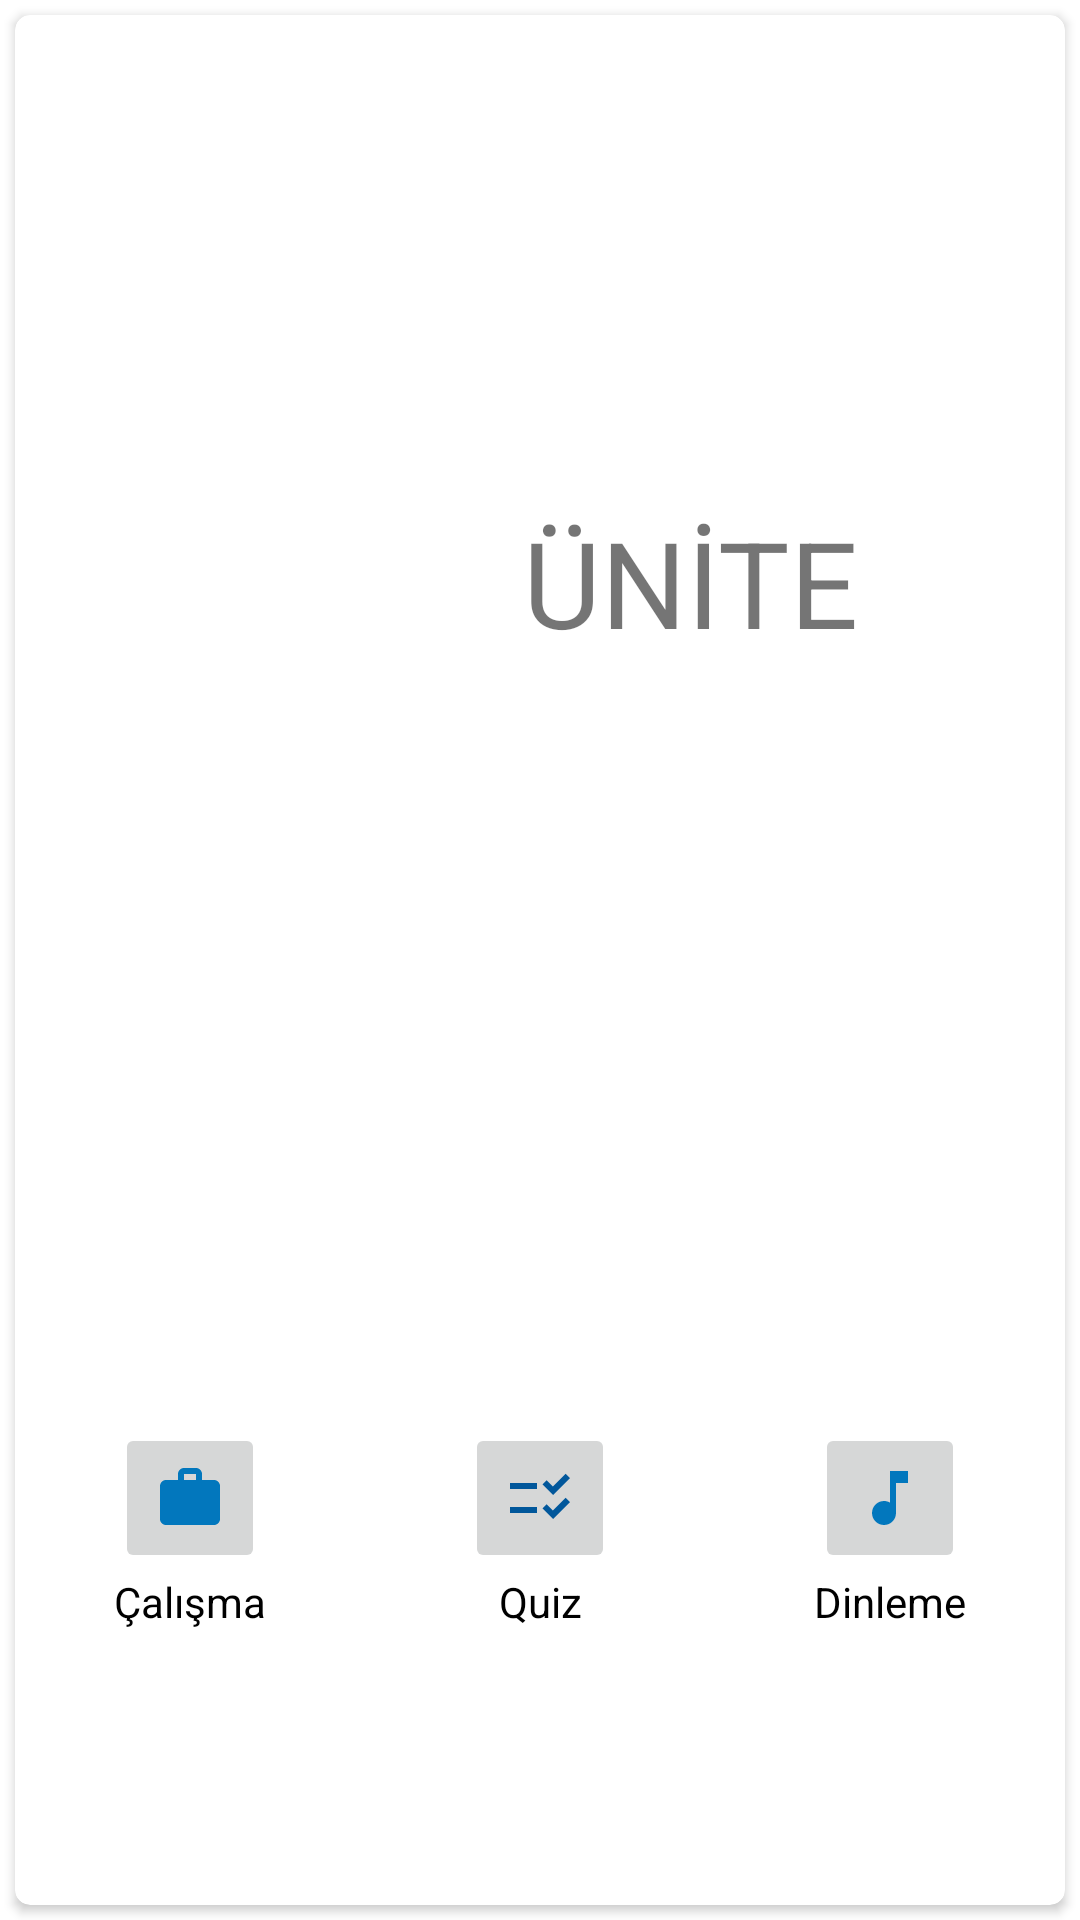

Where icons sit on this 1080px×1920px app screen, as (x1, y1, x2, y2):
checklist rtl: (477, 1441, 603, 1555)
music note: (827, 1441, 953, 1555)
